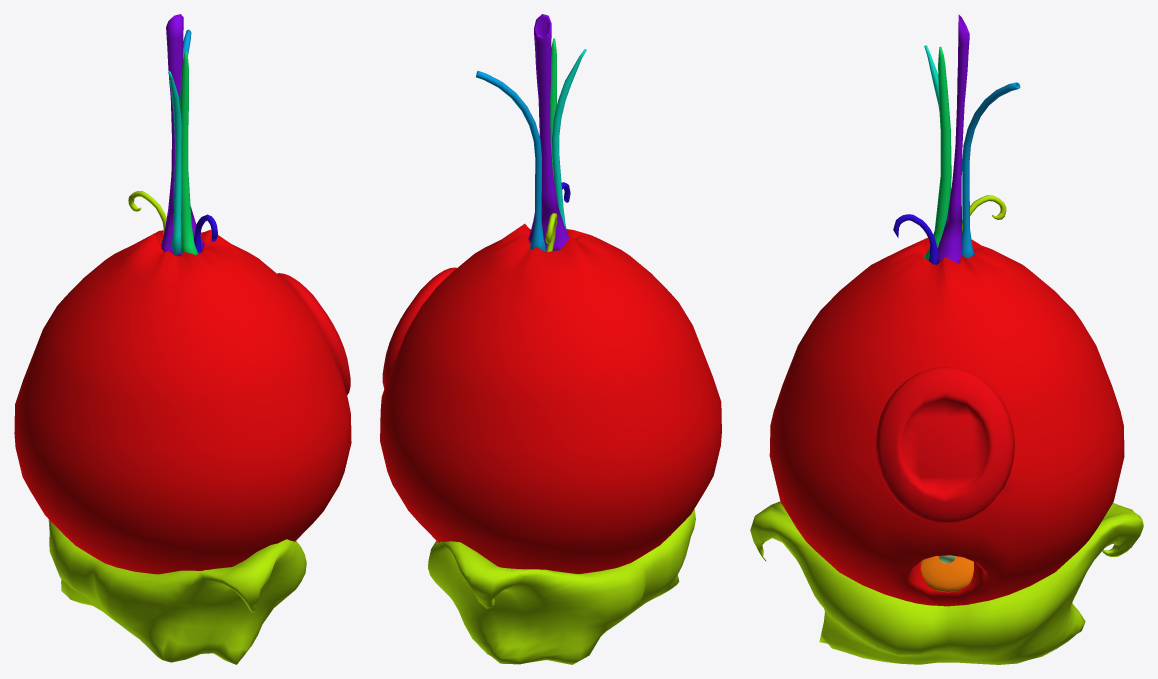
File: Onion_Monster_ID_map.fbx
The picture shows the model from 3 angles, left to right: view 1: azimuth 30°, elevation 25°; view 2: azimuth 150°, elevation 25°; view 3: azimuth 270°, elevation 25°; orthographic projection. The views are drawn at different scales.
Visible parts, largest first — view 1: Body_low.001, leaves_low.001, green1_low.001, green5_low.001, Eye_low.001, green4_low.001; view 2: Body_low.001, leaves_low.001, green1_low.001, green3_low.001, Eye_low.001, green4_low.001, green5_low.001; view 3: Body_low.001, leaves_low.001, Eye_low.001, green1_low.001, green5_low.001, green3_low.001, Tongue_low.001, green2_low.001.
Part boxes in pixels (<box>): Body_low.001: <box>14,229,351,574</box>; leaves_low.001: <box>48,519,306,664</box>; green1_low.001: <box>161,14,204,255</box>; green5_low.001: <box>180,50,198,255</box>; Eye_low.001: <box>277,273,350,395</box>; green4_low.001: <box>168,71,181,255</box>; Body_low.001: <box>380,223,721,573</box>; leaves_low.001: <box>428,509,695,664</box>; green1_low.001: <box>528,14,568,250</box>; green3_low.001: <box>476,71,546,251</box>; Eye_low.001: <box>382,267,456,388</box>; green4_low.001: <box>552,49,586,231</box>; green5_low.001: <box>550,38,556,179</box>; Body_low.001: <box>769,237,1124,606</box>; leaves_low.001: <box>750,501,1143,664</box>; Eye_low.001: <box>875,367,1014,523</box>; green1_low.001: <box>935,14,969,264</box>; green5_low.001: <box>924,46,951,260</box>; green3_low.001: <box>962,82,1020,258</box>; Tongue_low.001: <box>920,556,973,592</box>; green2_low.001: <box>893,214,938,264</box>.
Size of the model in its own units: 459 by 885 by 500.
